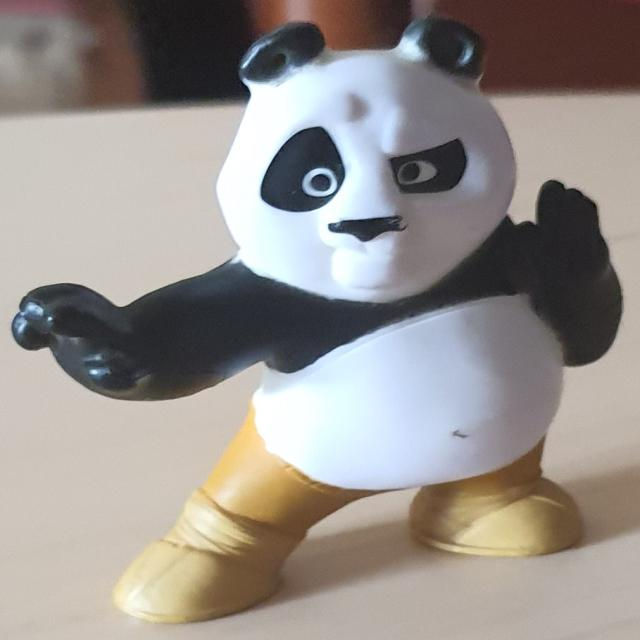Panda: (11, 14, 624, 624)
